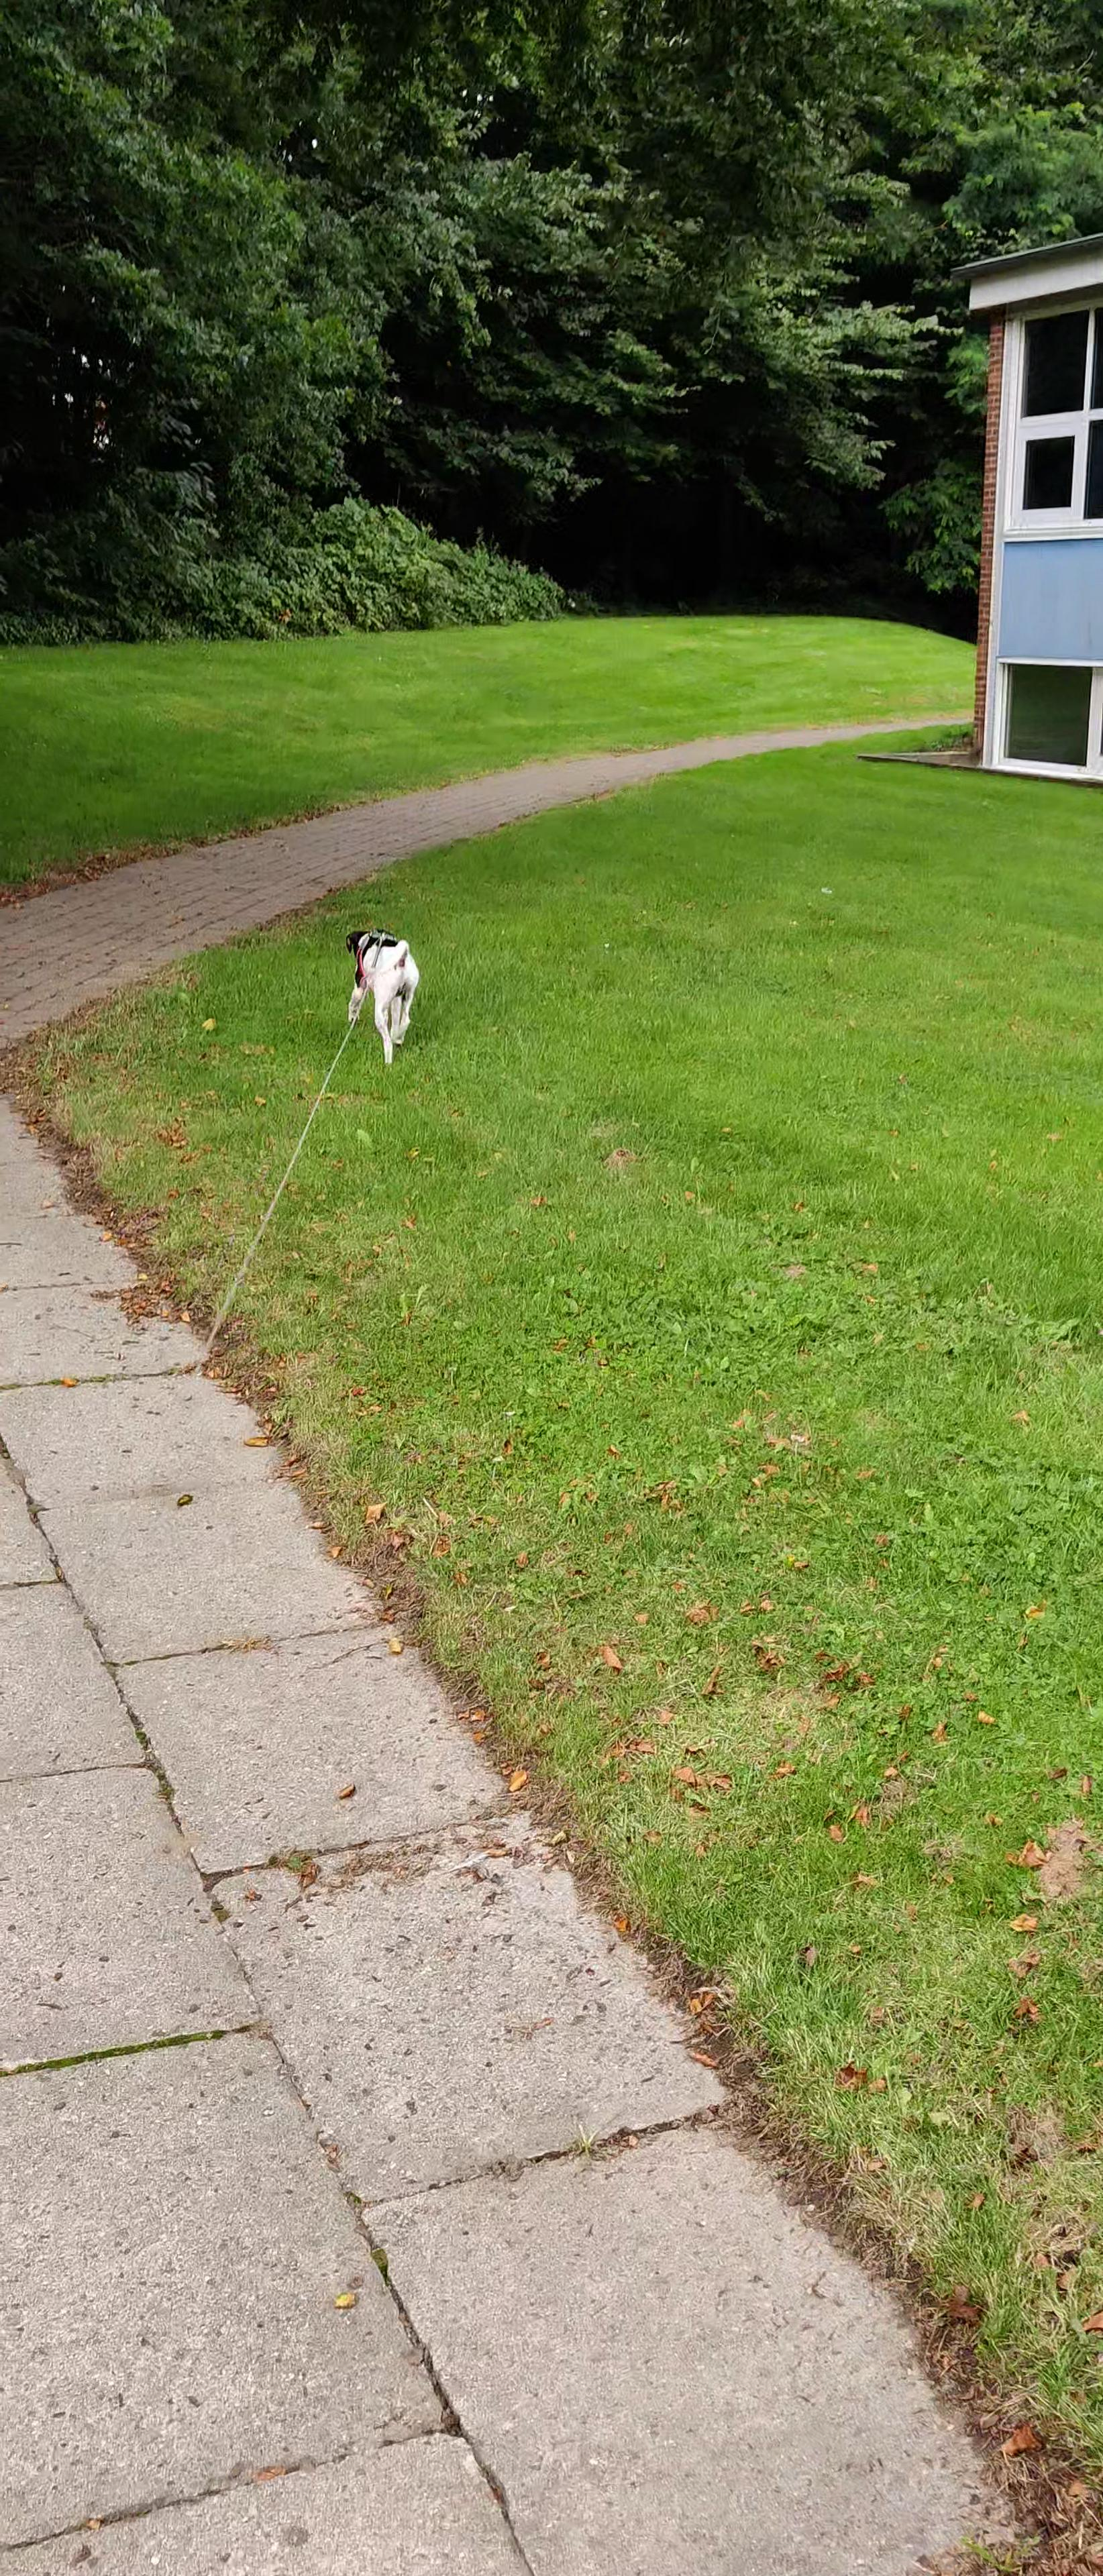Dog: (335, 918, 427, 1074)
